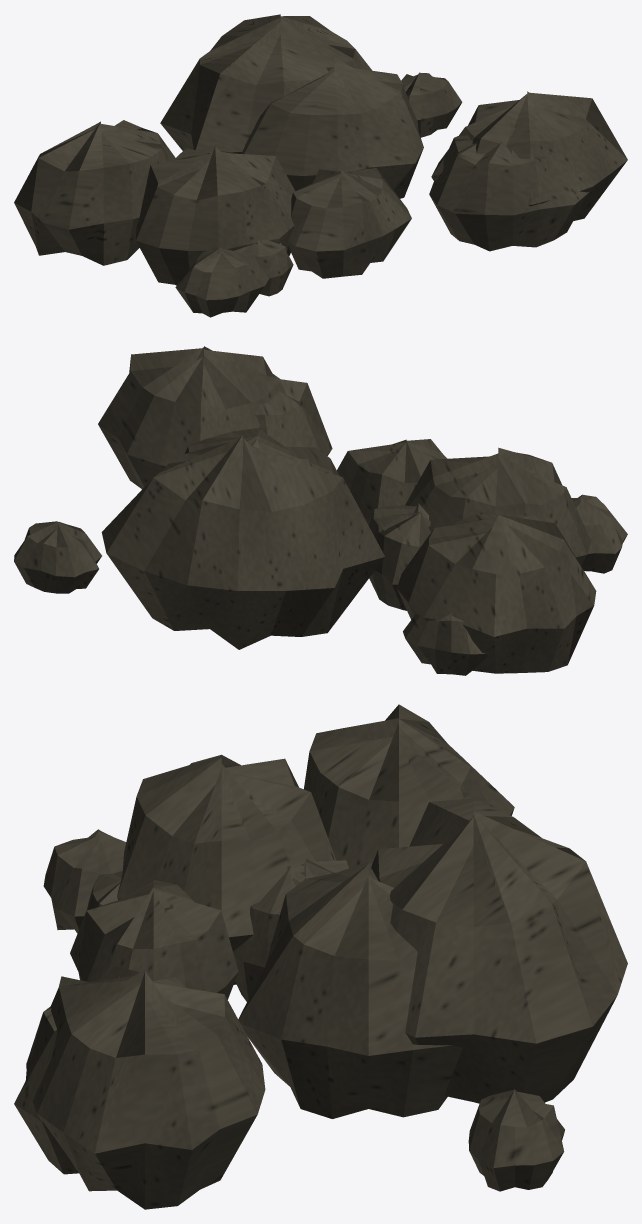
File: PROP-852CB1BCD0F4_lod0.glb
3 views of the same model, one above another, from view 1: azimuth 30°, elevation 25°; view 2: azimuth 150°, elevation 25°; view 3: azimuth 270°, elevation 25° (orthographic). The views are drawn at different scales.
Parts seen in each view (by area): view 1: rock.006; view 2: rock.006; view 3: rock.006.
Boxes of the visible parts, bbox=[...] form: rock.006: bbox=[14, 14, 627, 317]; rock.006: bbox=[14, 346, 627, 675]; rock.006: bbox=[14, 704, 627, 1209].
Size of the model in its own units: 1.53 by 0.4646 by 1.05.
1 material, 1 textured.
